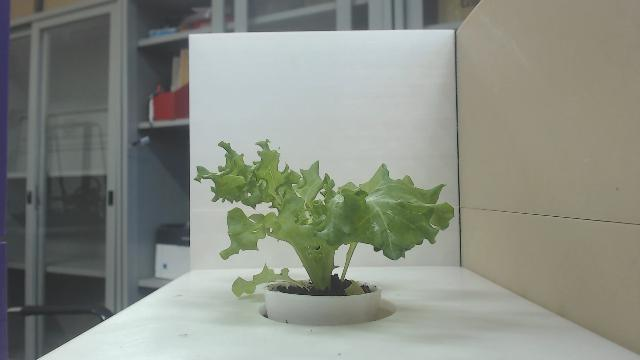Vegetative Stage: (194, 138, 456, 296)
